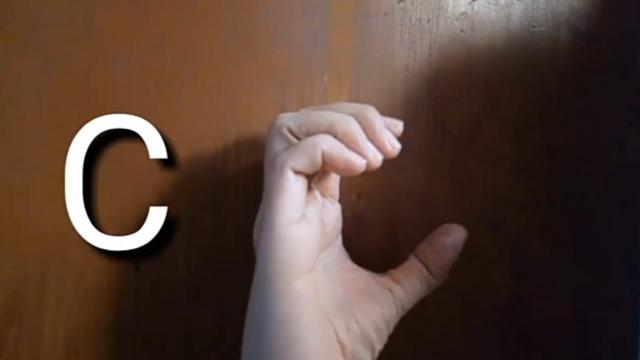C: (247, 103, 468, 360)
